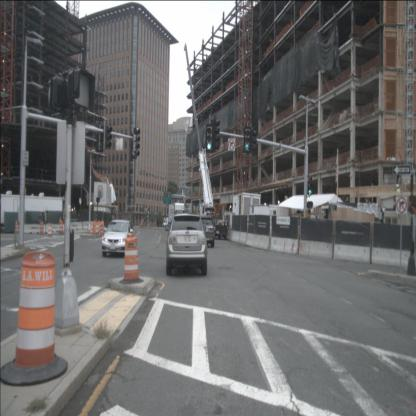movable_object-barrier: (333, 243, 371, 264), (298, 240, 334, 259), (371, 248, 401, 267), (270, 236, 299, 254), (245, 233, 271, 251), (401, 250, 412, 270), (23, 224, 45, 234), (45, 224, 65, 233), (66, 222, 82, 231), (82, 221, 98, 230), (238, 231, 248, 245), (231, 231, 240, 242), (226, 230, 234, 241)
movable_object-trafficcone: (0, 250, 68, 386), (119, 232, 144, 284), (59, 218, 64, 234), (95, 220, 100, 235), (39, 221, 44, 235), (15, 219, 19, 234), (48, 222, 52, 237), (100, 220, 104, 232), (90, 224, 94, 235), (100, 224, 104, 235), (97, 220, 100, 233), (94, 218, 96, 235)
vehicle-car: (166, 212, 208, 276), (102, 220, 136, 257), (193, 215, 215, 248)
vehicle-truck: (162, 220, 167, 227)
